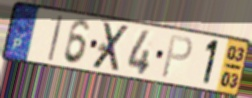1: (201, 38, 221, 89)
4: (126, 29, 151, 76)
6: (62, 17, 92, 66)
I: (46, 14, 65, 64)
P: (159, 33, 195, 80)
X: (90, 22, 132, 74)
